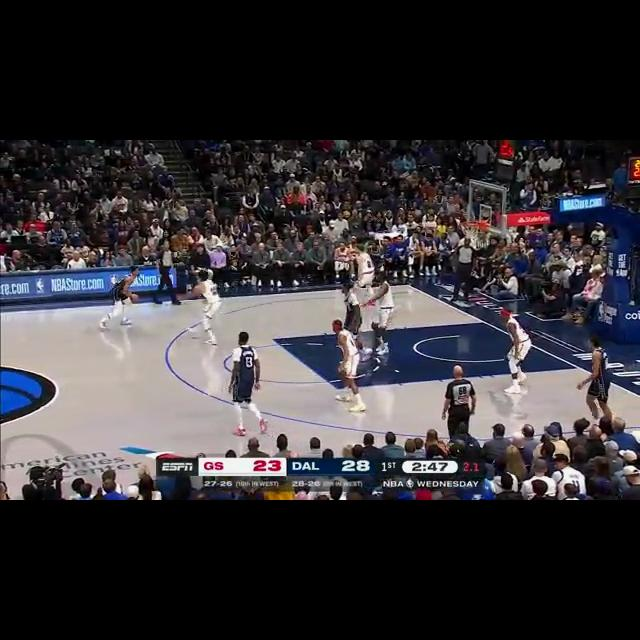Ball: (130, 290, 140, 304)
Team-1-Player: (570, 332, 620, 422), (228, 332, 268, 440), (88, 266, 150, 332), (338, 281, 362, 333)
Team-2-Player: (320, 318, 374, 416), (486, 304, 536, 398), (172, 266, 224, 346), (364, 274, 396, 358), (352, 246, 382, 300)
